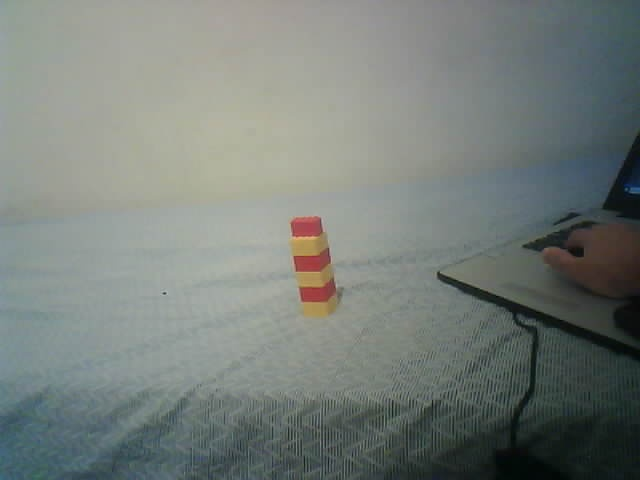lego: (288, 215, 340, 318)
